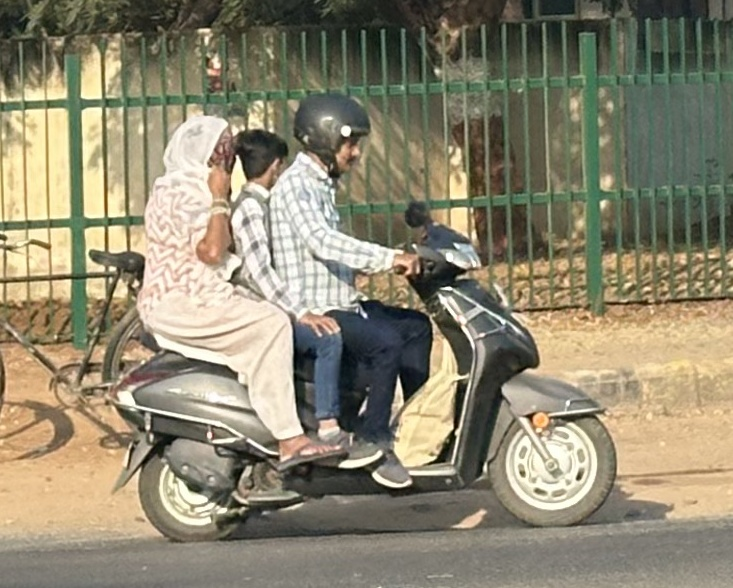BikeWithRider: (99, 74, 628, 540)
Helmet: (290, 90, 375, 185)
NoHelmet: (157, 110, 236, 174), (228, 123, 284, 192)
